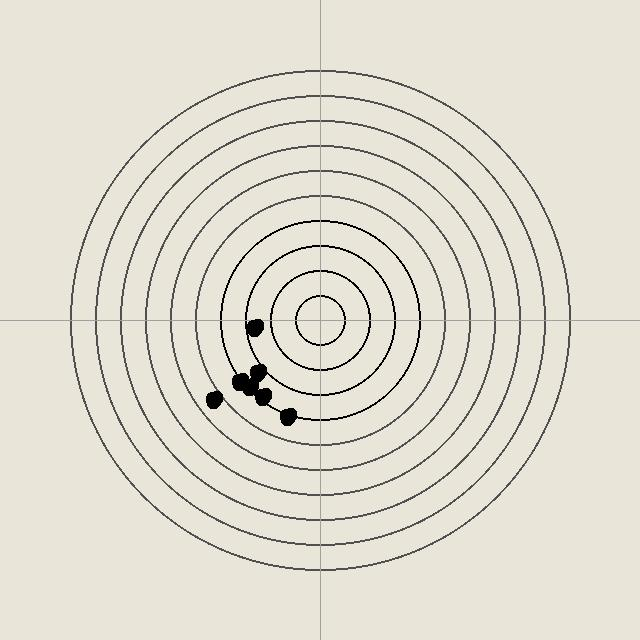good_group: (203, 389, 223, 409), (252, 386, 272, 406), (229, 371, 249, 391), (244, 317, 264, 337), (277, 406, 297, 426), (247, 362, 267, 382), (239, 376, 259, 396)
